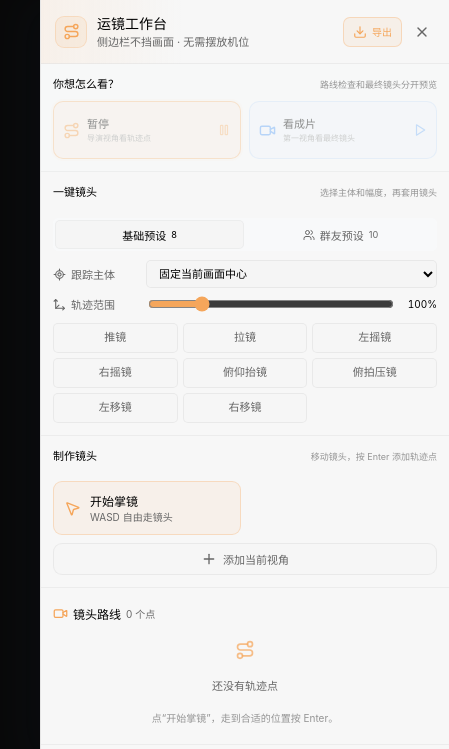
Scenario: starts pilot mode and records the current view as a numbered waypoint
Click the button "开始掌镜 WASD 自由走镜头": click(147, 508) [53, 481, 241, 535]
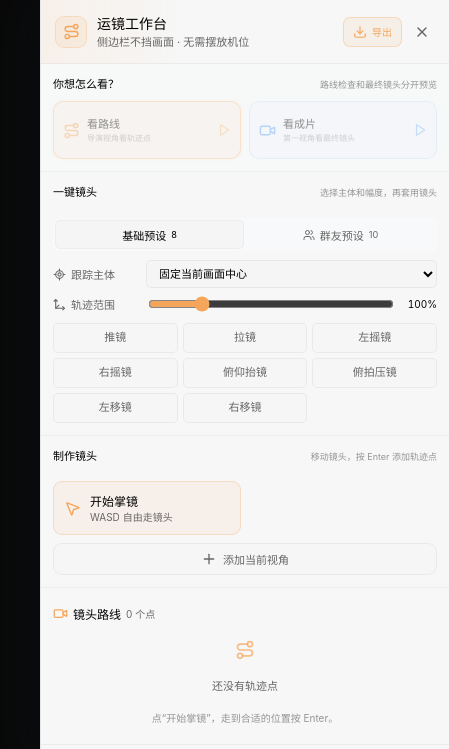
Click the button with aria-label "添加当前视角为轨迹点": click(245, 559) [53, 543, 437, 575]
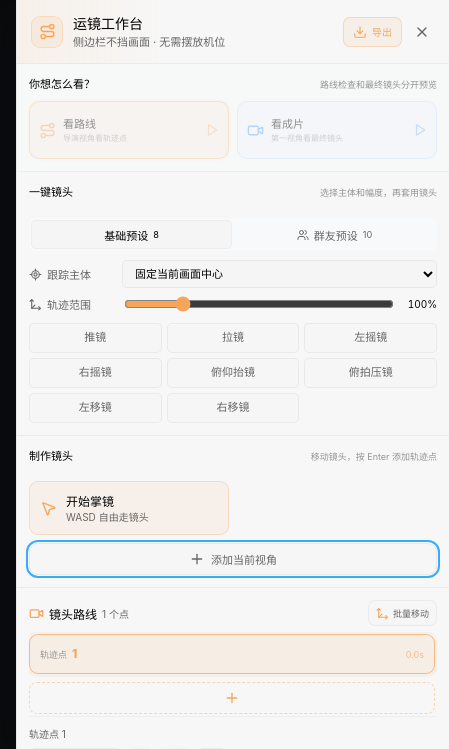
Check: the button named "选择轨迹点 1" is shown, box [29, 634, 435, 674]
